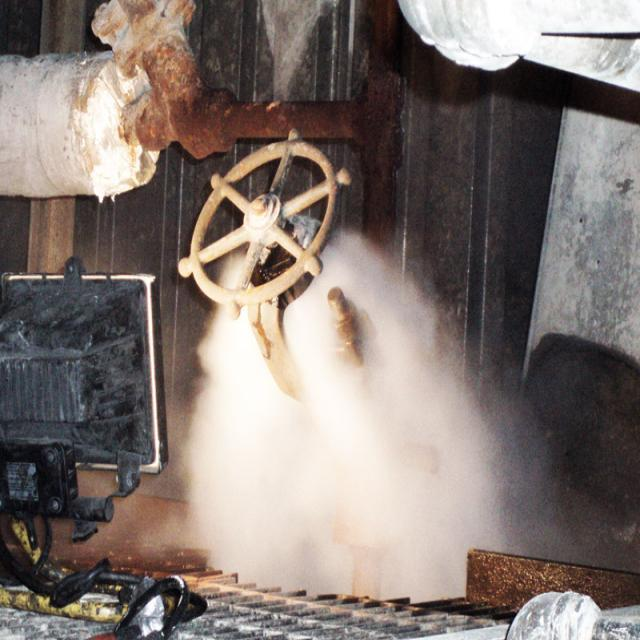Smoke: (180, 214, 510, 604)
